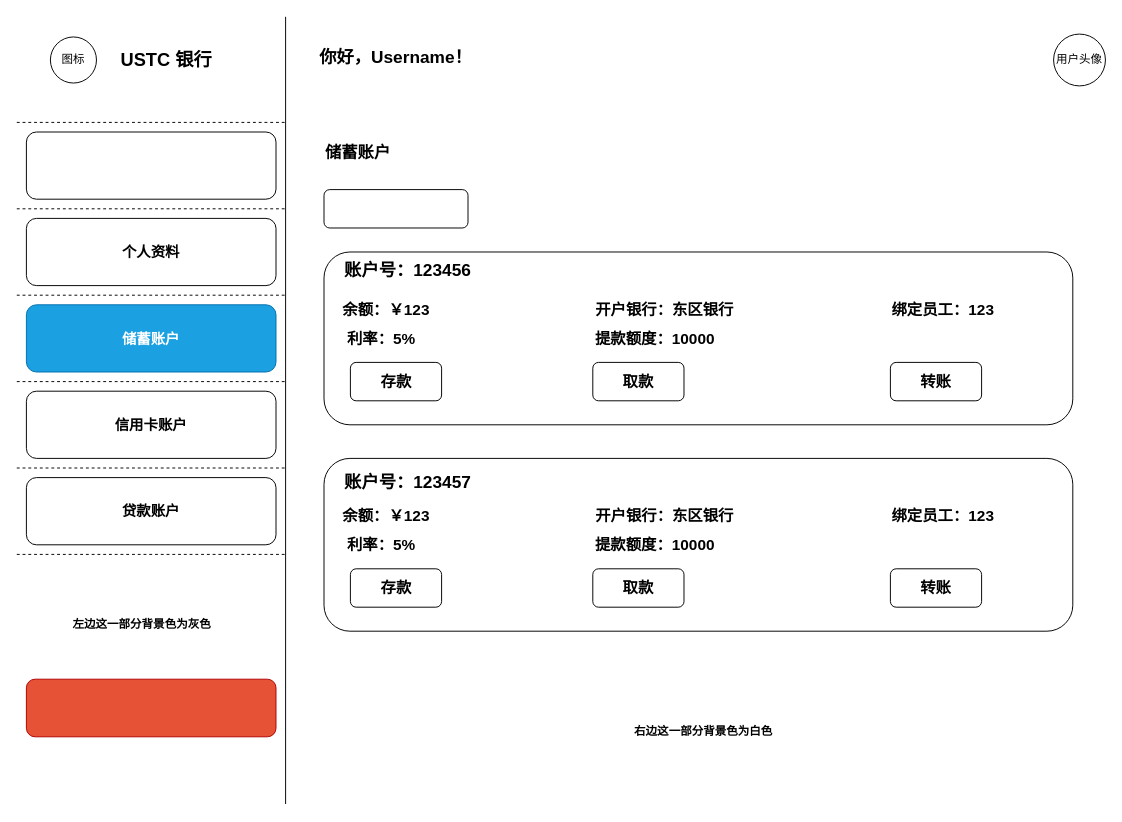
Some shapes in this 1122 by 822 pixel diagram are drawn without their labels. The box of each missing label's shape, as (x1, y1, x2, y2) in pixels:
仪表盘: (25, 131, 276, 199)
添加账户: (323, 189, 468, 228)
登出: (25, 678, 276, 737)
